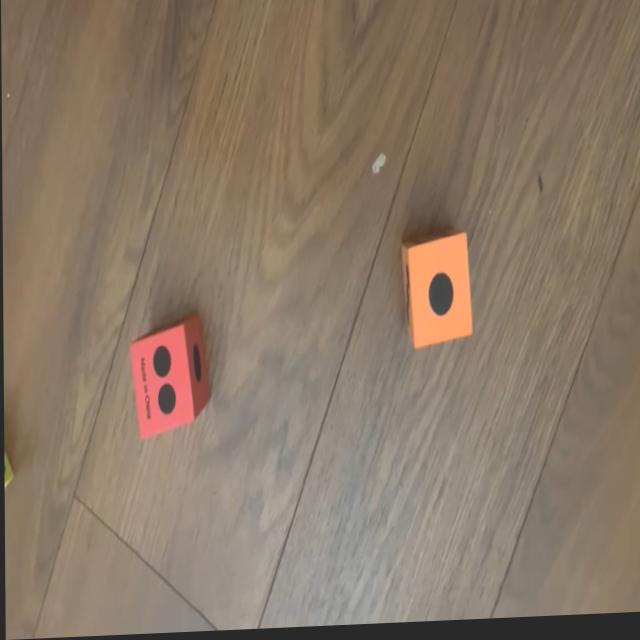cube: (129, 317, 210, 439)
